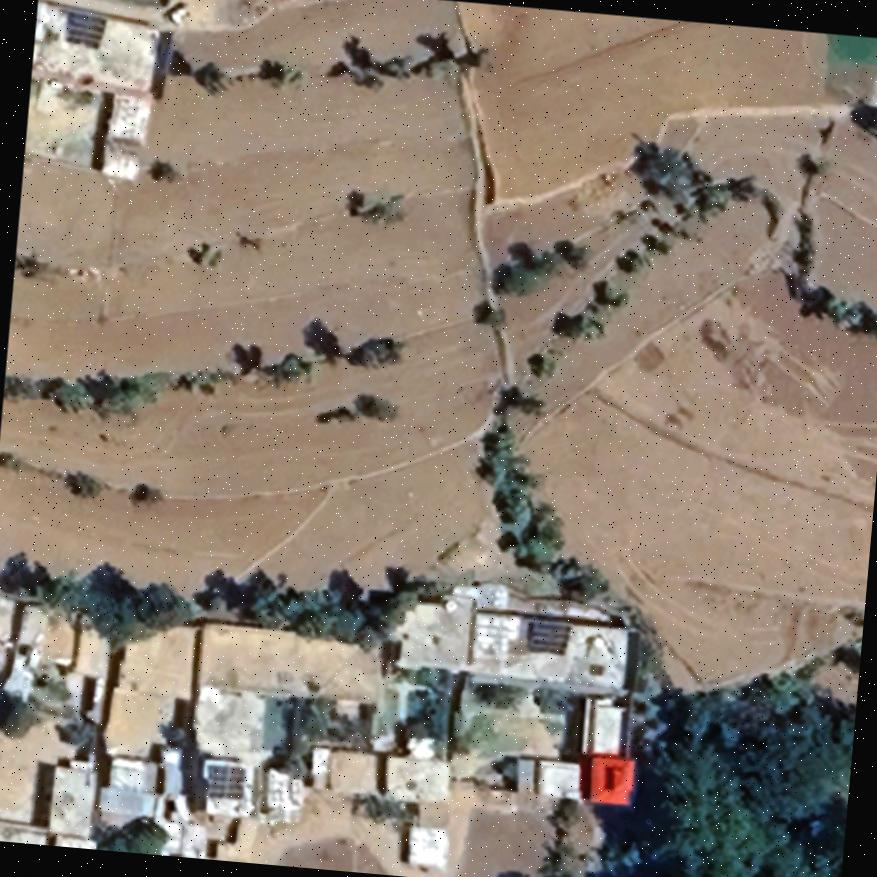Solarpanel: (519, 610, 576, 658), (58, 3, 111, 52), (201, 756, 250, 802)
